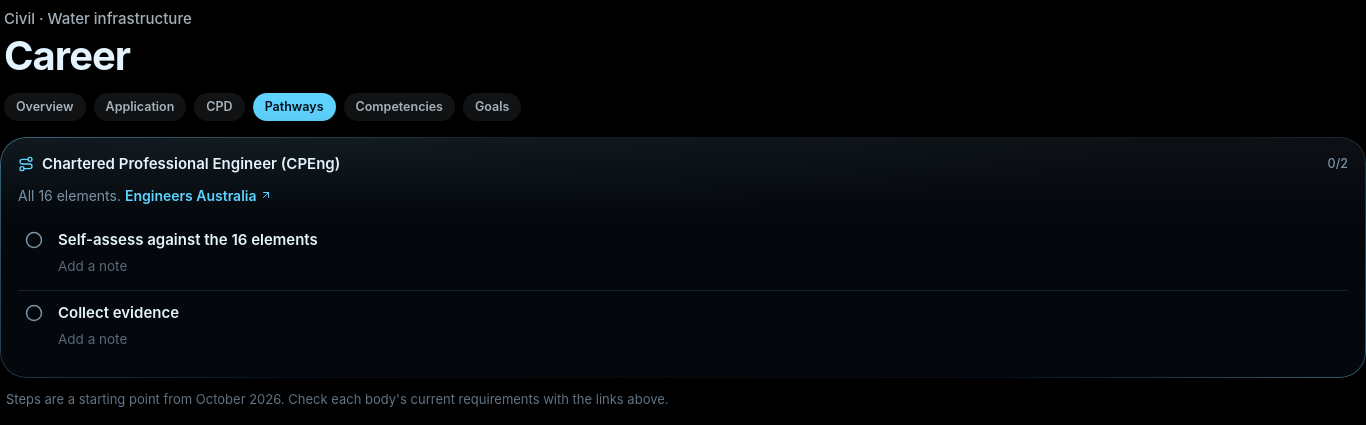
Scenario: <Career /> › ticks off pathway steps and saves the whole edit
Click the button named "Self-assess against the 16 elements: To do. Change status": x=34, y=240 [18, 224, 50, 256]
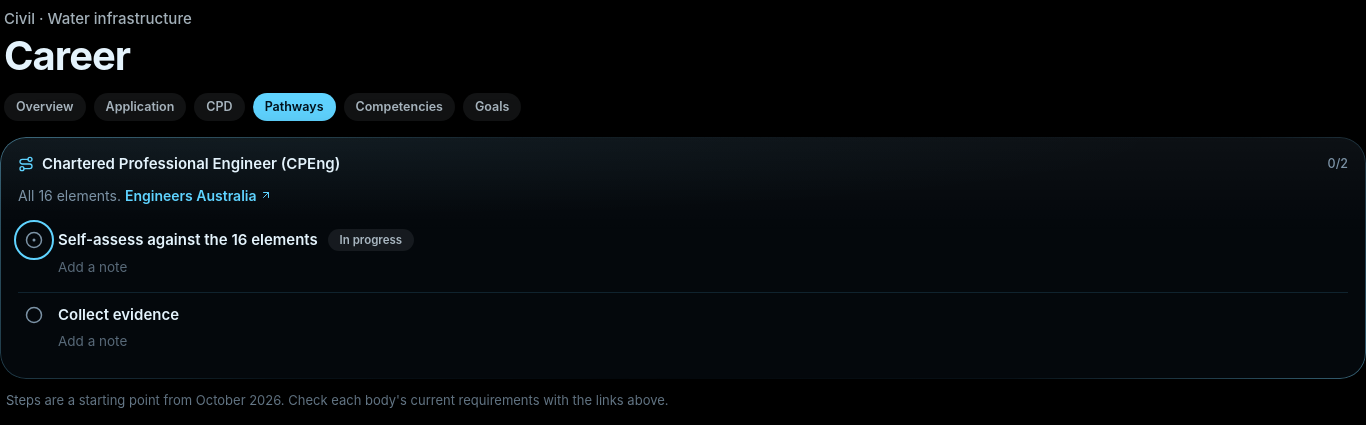
Result: the button named "In progress" is shown at [18, 224, 50, 256]
